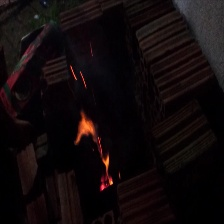fire: (74, 109, 119, 191)
